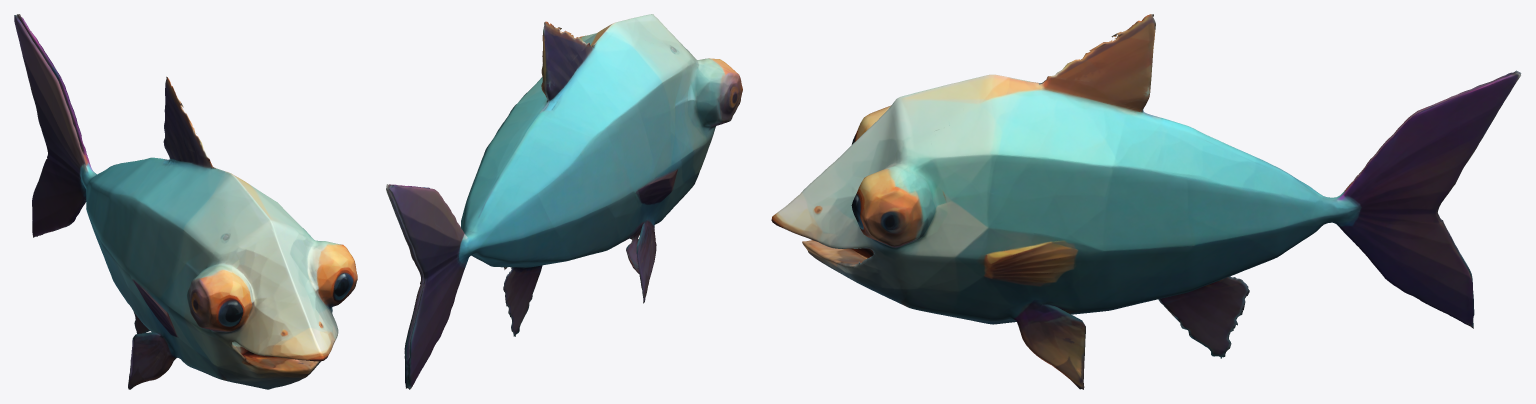
The model's file is Fish.fbx.
The picture shows the model from 3 angles, left to right: view 1: azimuth 30°, elevation 25°; view 2: azimuth 150°, elevation 25°; view 3: azimuth 270°, elevation 25°; orthographic projection. The views are drawn at different scales.
Visible parts, largest first — view 1: Mesh1_Mesh1.027; view 2: Mesh1_Mesh1.027; view 3: Mesh1_Mesh1.027.
Part boxes in pixels (x1,y1,x2,y2): Mesh1_Mesh1.027: (14,14,357,389); Mesh1_Mesh1.027: (386,14,742,389); Mesh1_Mesh1.027: (771,14,1521,389).
Bounding box in the file's own units: 57.45 × 101 × 198.
Materials: 1 (1 with a texture image).
